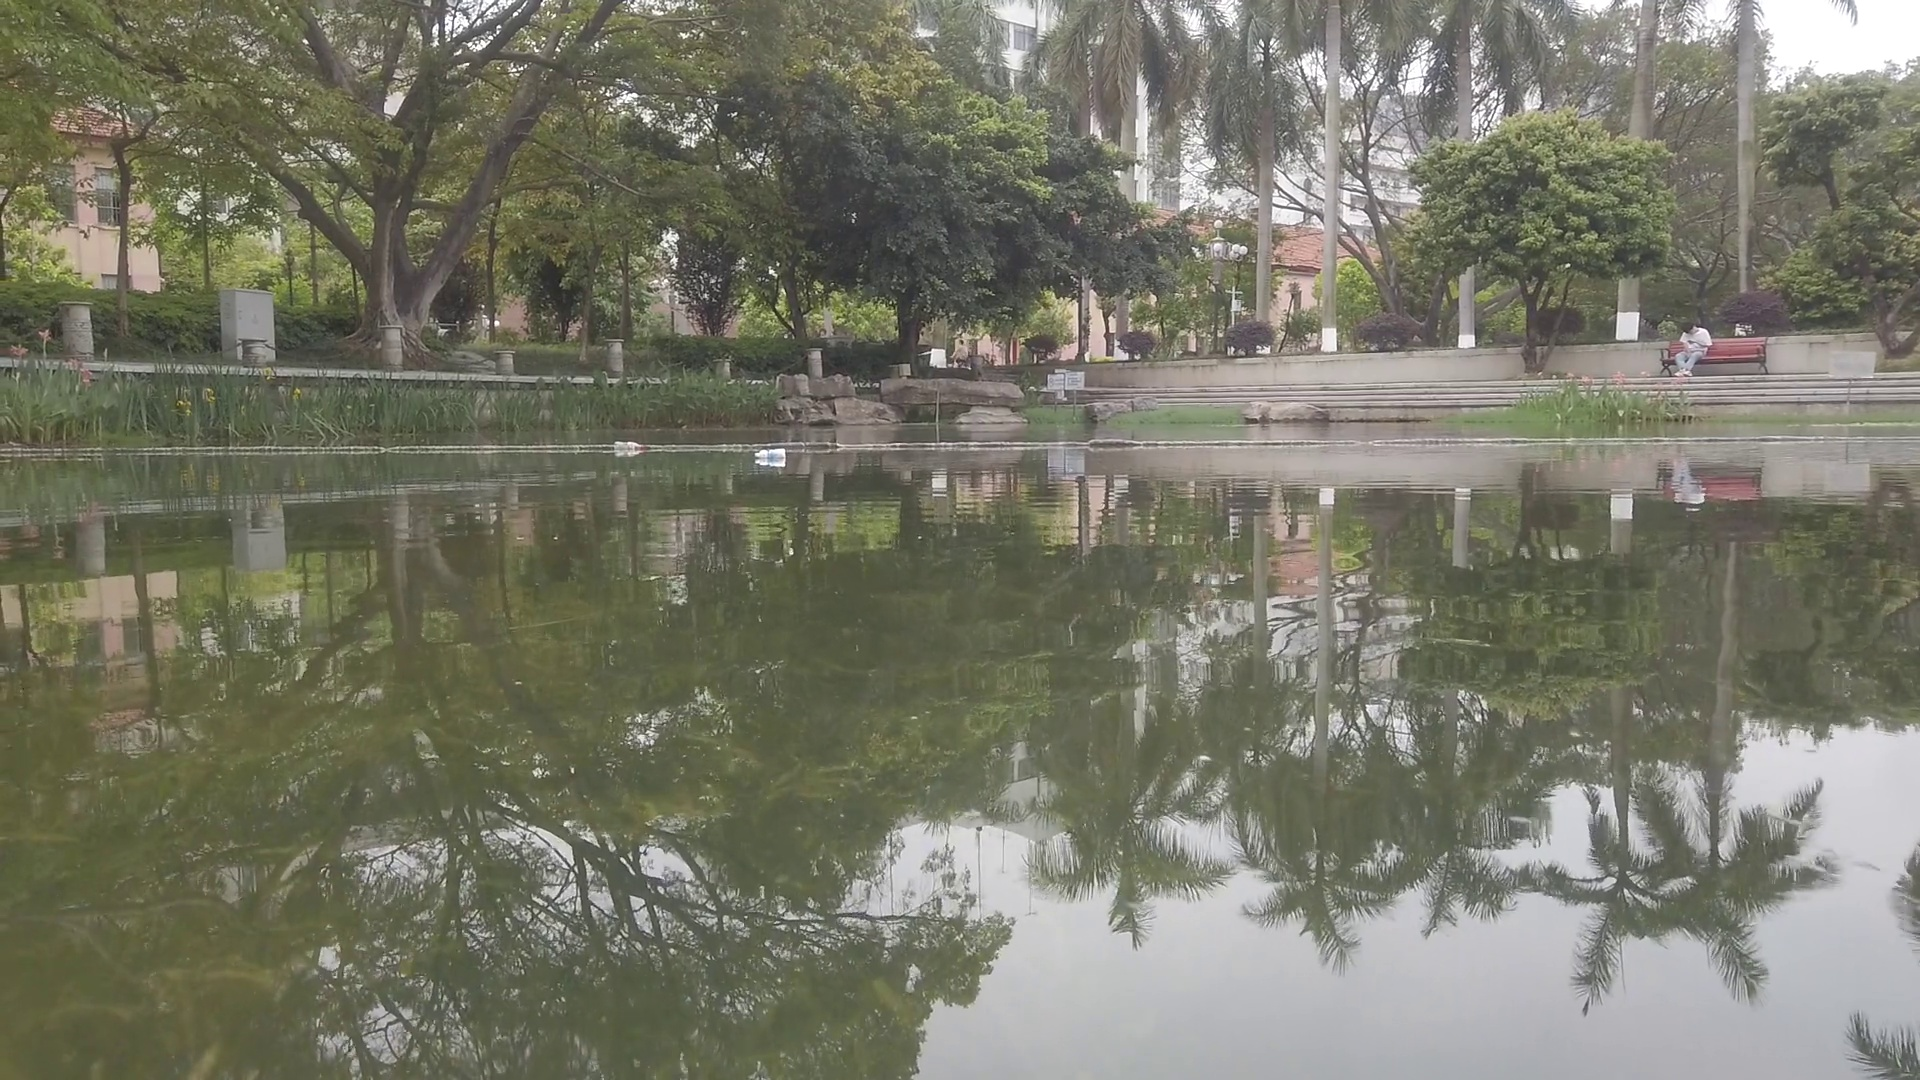bottle: (612, 440, 646, 451), (756, 448, 786, 460)
